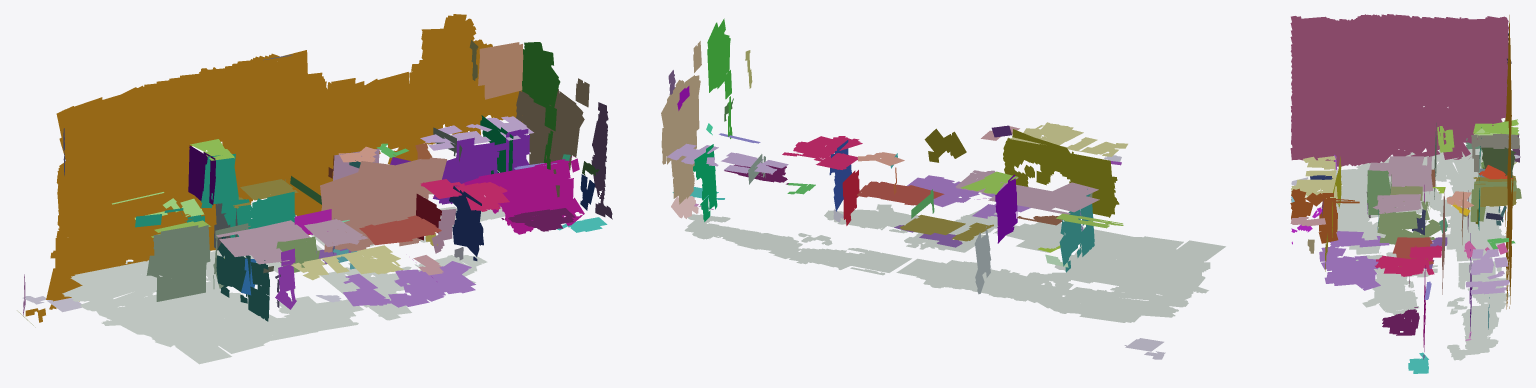
The model's file is c8f2218ee2_simple.glb.
3 views of the same model, side by side, from view 1: azimuth 30°, elevation 25°; view 2: azimuth 150°, elevation 25°; view 3: azimuth 270°, elevation 25° (orthographic). The views are drawn at different scales.
Size of the model in its own units: 5.3 by 1.97 by 2.36.
